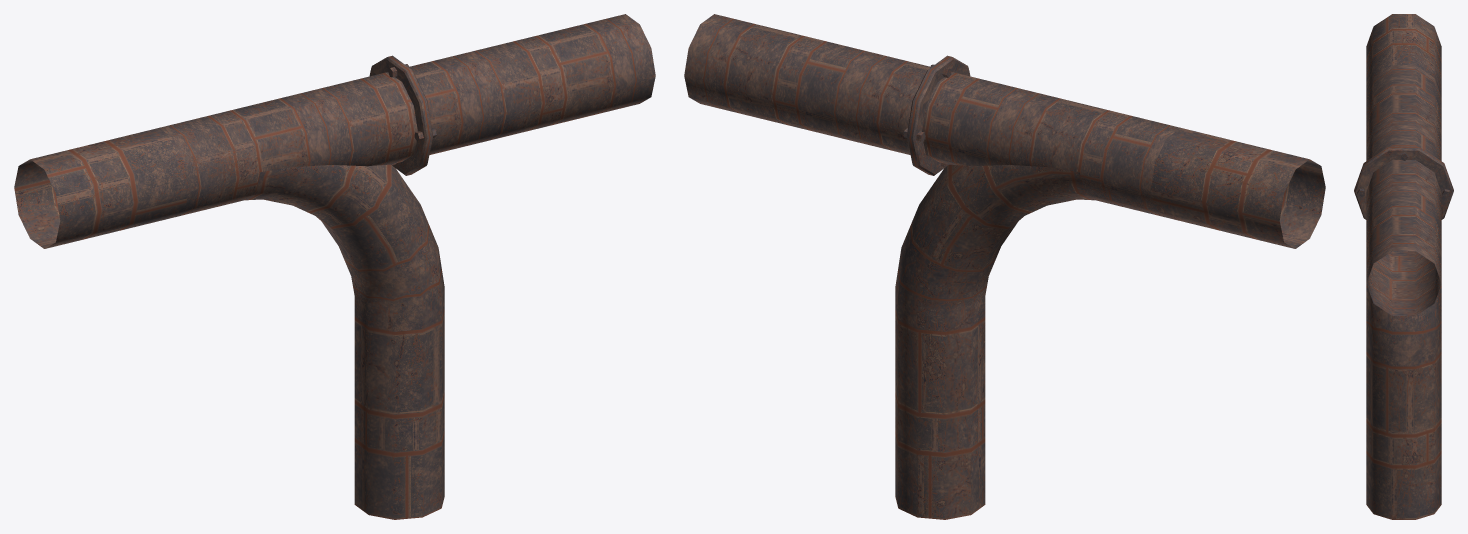
File: Pipes.fbx
3 renders of one model, left to right at view 1: azimuth 30°, elevation 25°; view 2: azimuth 150°, elevation 25°; view 3: azimuth 270°, elevation 25°, orthographic. The views are drawn at different scales.
Parts seen in each view (by area): view 1: Pipe_Curved, Pipe_Straight, Pipe_Divide; view 2: Pipe_Curved, Pipe_Straight, Pipe_Divide; view 3: Pipe_Curved, Pipe_Straight, Pipe_Divide.
Boxes of the visible parts, x1,y1,x2,y2 form: Pipe_Curved: (14, 122, 444, 519); Pipe_Straight: (159, 14, 655, 210); Pipe_Divide: (369, 55, 436, 175); Pipe_Curved: (895, 122, 1325, 519); Pipe_Straight: (684, 14, 1180, 210); Pipe_Divide: (903, 55, 970, 175); Pipe_Curved: (1366, 14, 1441, 519); Pipe_Straight: (1366, 65, 1441, 315); Pipe_Divide: (1354, 146, 1453, 219).
Bounding box in the file's own units: 742 × 521 × 132.
1 material, 1 textured.
